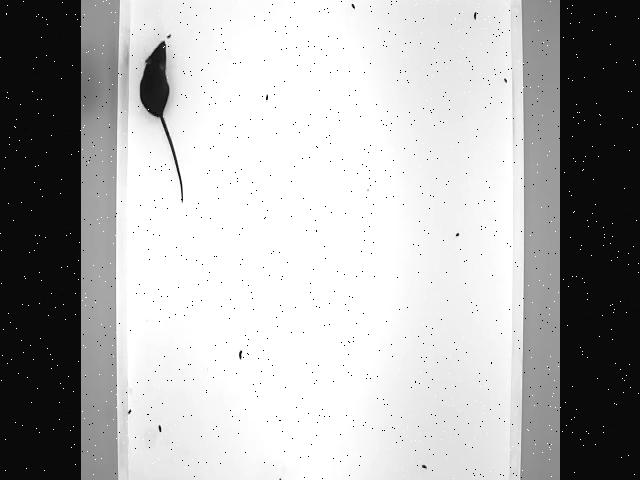Tikus: (136, 38, 192, 203)
